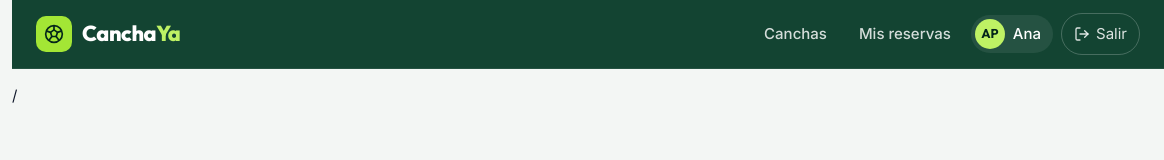
Test: Navbar › muestra el menú del usuario con sus iniciales y permite salir
Expected: the link "Mis reservas" is shown, [859, 24, 951, 43]
Expected: the text "AP" is shown, [975, 19, 1005, 49]
What coordinates should you click on to do the following:
click the button "Salir"
I would click on:
 (1100, 34)
Its box is [1061, 13, 1140, 55].
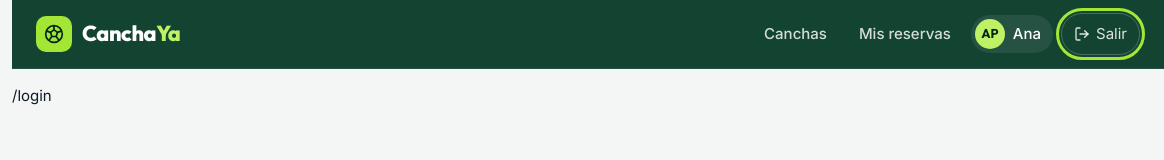
Expected: the text with test id "ubicacion" reads "/login", [12, 86, 52, 105]
